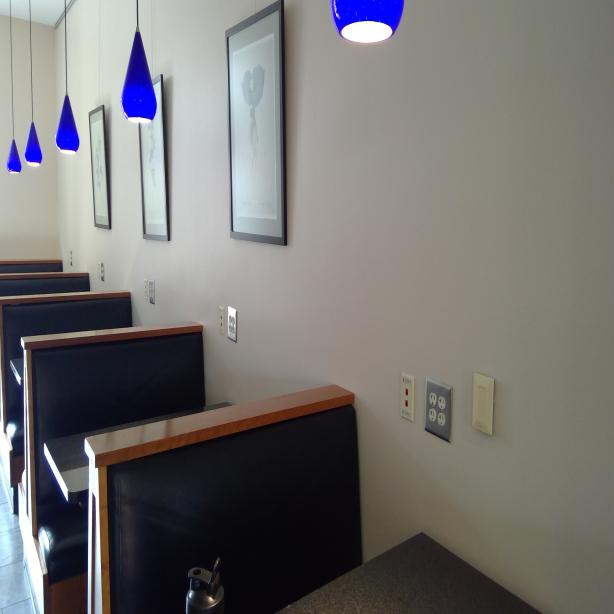typeb: (428, 390, 438, 406), (436, 410, 446, 426), (438, 394, 447, 411), (428, 407, 437, 422)
